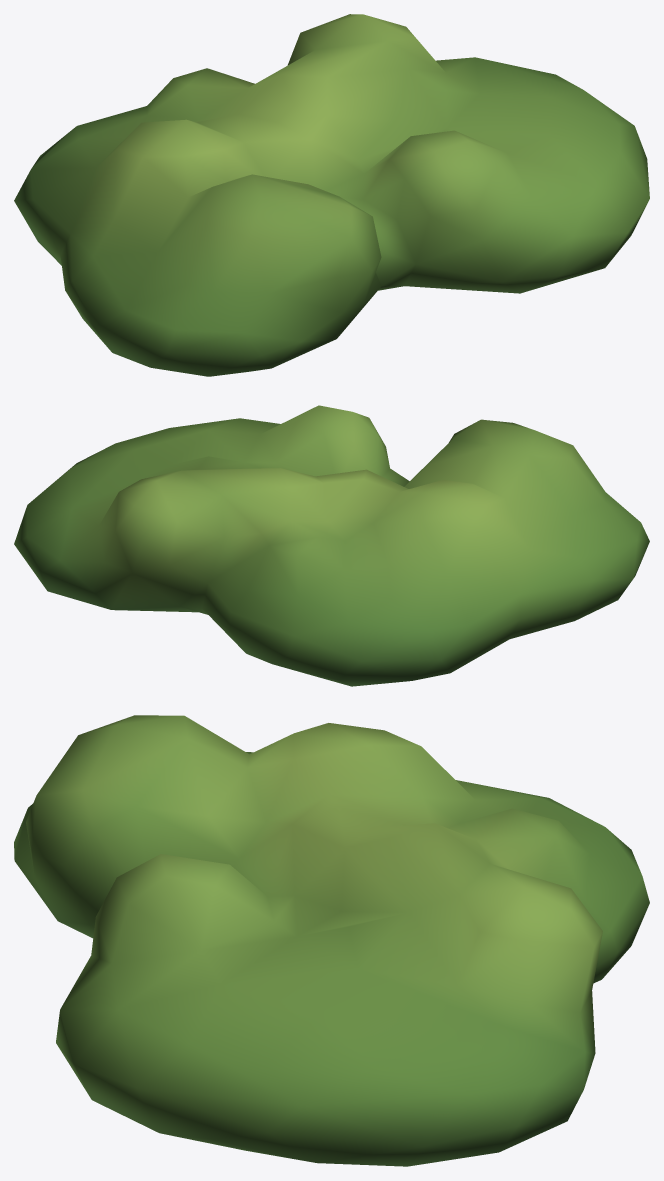
The model's file is env_sky_moss_a.glb.
3 views of the same model, one above another, from view 1: azimuth 30°, elevation 25°; view 2: azimuth 150°, elevation 25°; view 3: azimuth 270°, elevation 25° (orthographic). The views are drawn at different scales.
Parts seen in each view (by area): view 1: SM_sky_sky_vc_x0_z0.016; view 2: SM_sky_sky_vc_x0_z0.016; view 3: SM_sky_sky_vc_x0_z0.016.
Boxes of the visible parts, x1,y1,x2,y2 form: SM_sky_sky_vc_x0_z0.016: [14, 14, 649, 376]; SM_sky_sky_vc_x0_z0.016: [14, 405, 649, 686]; SM_sky_sky_vc_x0_z0.016: [14, 715, 649, 1166].
Size of the model in its own units: 1.35 by 0.3865 by 1.02.
